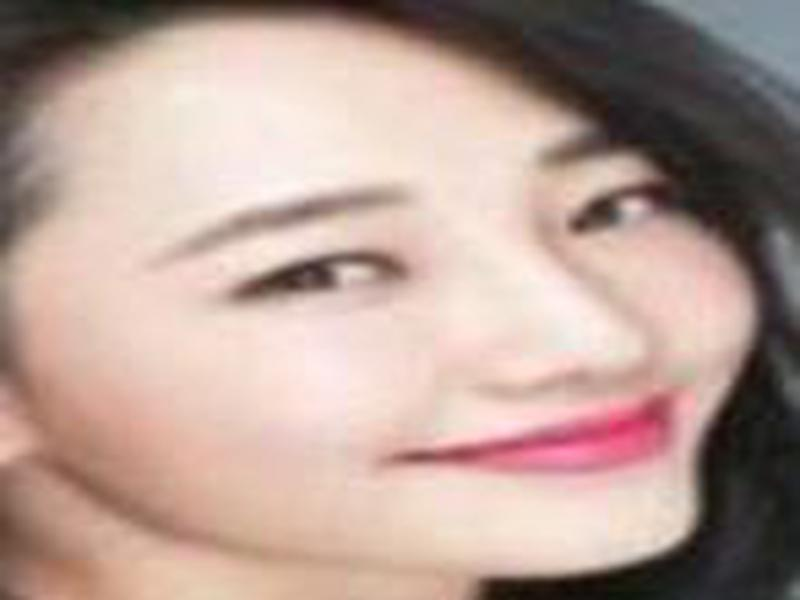without_mask: (10, 48, 753, 578)
